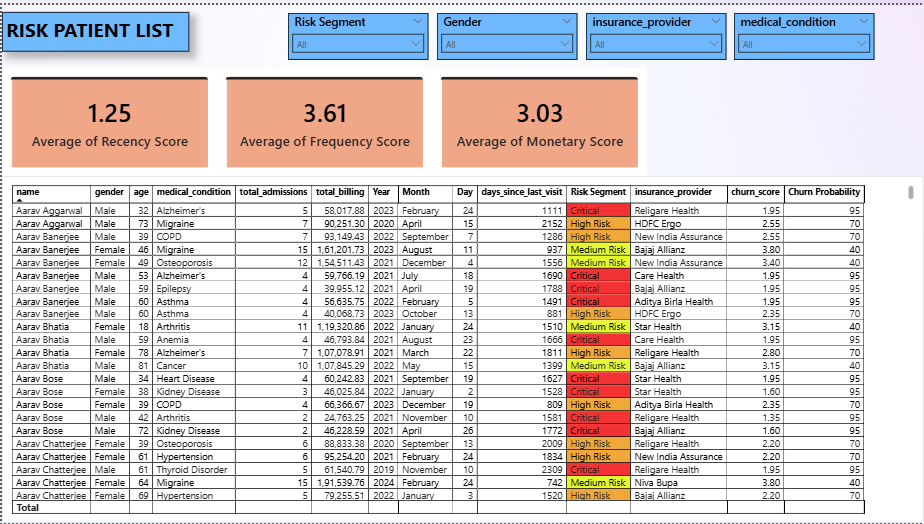

Layout of this report page (visuals, bound fields, positions):
{"tool":"powerbi","page":{"name":"Page 3","canvas":[1280,720],"ordinal":2},"visuals":[{"type":"tableEx","fields":{"Values":["hospital_churn_finall2.name","hospital_churn_finall2.gender","hospital_churn_finall2.age","hospital_churn_finall2.medical_condition","hospital_churn_finall2.total_admissions","hospital_churn_finall2.total_billing","hospital_churn_finall2.last_admission.Variation.Date Hierarchy.Year","hospital_churn_finall2.last_admission.Variation.Date Hierarchy.Month","hospital_churn_finall2.last_admission.Variation.Date Hierarchy.Day","hospital_churn_finall2.days_since_last_visit","hospital_churn_finall2.Risk Segment","hospital_churn_finall2.insurance_provider"]},"box":[0,238.1,1280,481.7],"z":0},{"type":"textbox","box":[0,9.6,260.1,55.1],"z":1000},{"type":"cardVisual","fields":{"Data":["Avg(hospital_churn_finall2.recency_score)"]},"box":[0,88.1,298.7,150],"z":2000},{"type":"cardVisual","fields":{"Data":["Avg(hospital_churn_finall2.frequency_score)"]},"box":[298.7,88.1,298.7,150],"z":3000},{"type":"cardVisual","fields":{"Data":["Avg(hospital_churn_finall2.monetary_score)"]},"box":[597.3,88.1,298.7,150],"z":4000},{"type":"slicer","fields":{"Values":["hospital_churn_finall2.insurance_provider"]},"box":[810.7,11,195.4,64.7],"z":4001},{"type":"slicer","fields":{"Values":["hospital_churn_finall2.medical_condition"]},"box":[1017.1,11,195.4,64.7],"z":4002},{"type":"slicer","fields":{"Values":["hospital_churn_finall2.gender"]},"box":[604.2,11,195.4,64.7],"z":4003},{"type":"slicer","fields":{"Values":["hospital_churn_finall2.Risk Segment"]},"box":[397.8,11,195.4,64.7],"z":4004}]}

Visuals, with their boxes in screenshot pixels (x1, y1, x2, y2), scaled from the page's 1280x720 canvas onto the 924x524 screenshot:
tableEx - hospital_churn_finall2.name x hospital_churn_finall2.gender: box(0, 173, 923, 523)
textbox: box(0, 7, 188, 47)
cardVisual - Avg(hospital_churn_finall2.recency_score): box(0, 64, 216, 173)
cardVisual - Avg(hospital_churn_finall2.frequency_score): box(216, 64, 431, 173)
cardVisual - Avg(hospital_churn_finall2.monetary_score): box(431, 64, 647, 173)
slicer - hospital_churn_finall2.insurance_provider: box(585, 8, 726, 55)
slicer - hospital_churn_finall2.medical_condition: box(734, 8, 875, 55)
slicer - hospital_churn_finall2.gender: box(436, 8, 577, 55)
slicer - hospital_churn_finall2.Risk Segment: box(287, 8, 428, 55)
